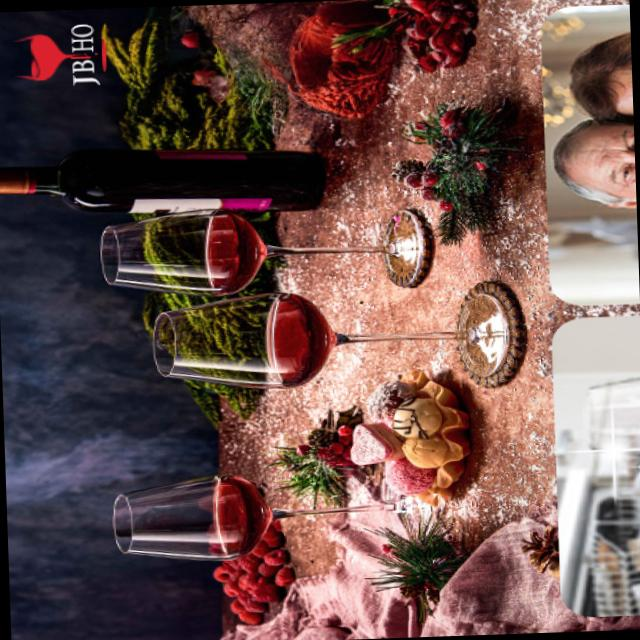glass: (143, 262, 530, 403), (70, 189, 450, 308), (0, 121, 349, 217), (106, 461, 391, 574)
